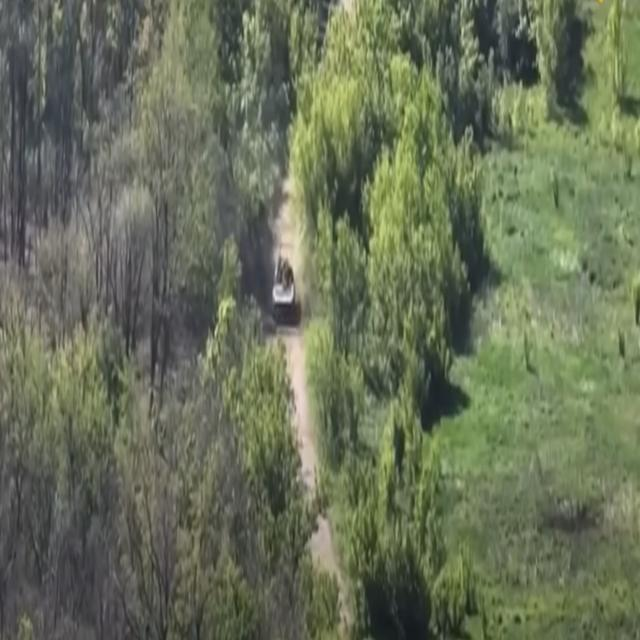AIFV: (272, 258, 296, 326)
